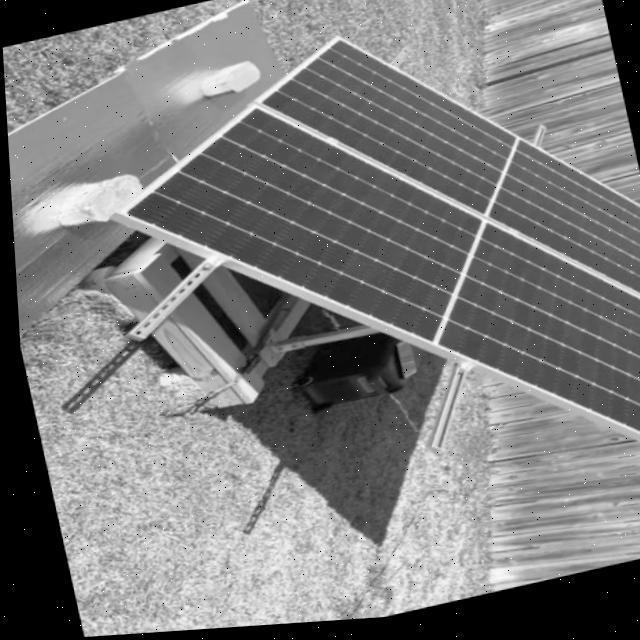Normal Solar Panel: (91, 0, 640, 566)
